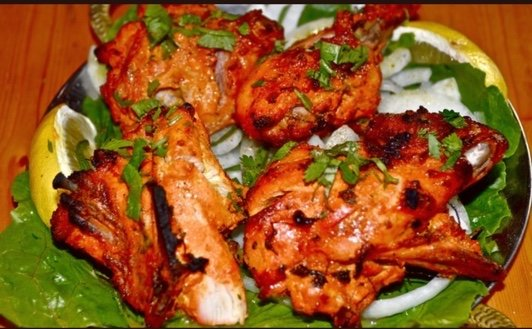curry: (24, 2, 532, 325)
sandwich: (20, 2, 526, 323), (241, 107, 506, 321)
